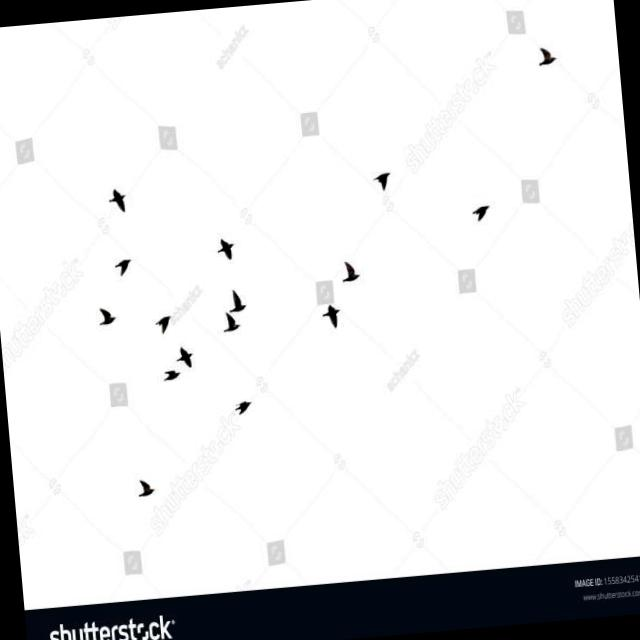bird: (94, 184, 136, 222), (531, 41, 561, 76), (320, 300, 347, 332), (338, 260, 366, 290), (370, 168, 402, 194), (146, 312, 178, 336), (175, 342, 202, 369), (471, 200, 498, 227), (94, 299, 118, 329), (224, 290, 254, 314), (110, 256, 138, 281), (213, 230, 236, 260), (157, 362, 186, 385), (222, 309, 246, 335), (138, 471, 156, 500), (233, 399, 253, 417)
